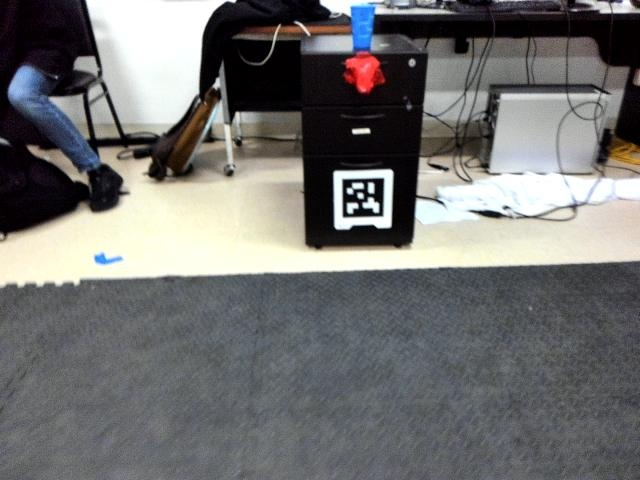water_cup: (347, 3, 375, 50)
